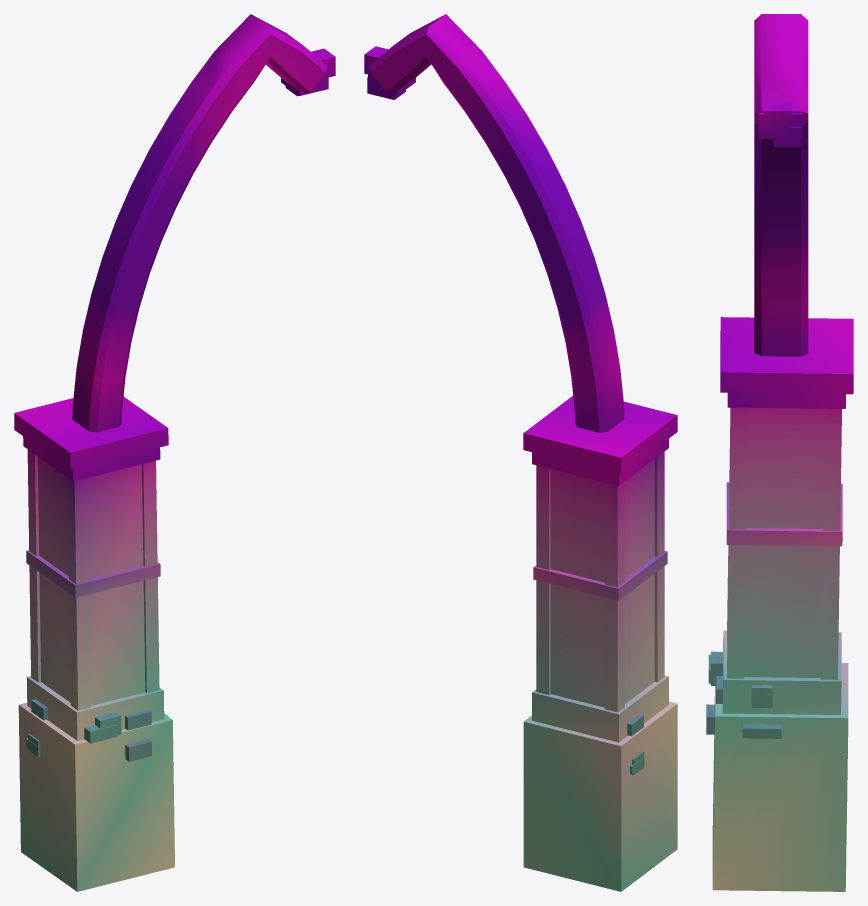
File: half_arch_sunk.glb
The picture shows the model from 3 angles, left to right: view 1: azimuth 30°, elevation 25°; view 2: azimuth 150°, elevation 25°; view 3: azimuth 270°, elevation 25°; orthographic projection. The views are drawn at different scales.
Parts seen in each view (by area): view 1: arch_jamb, arch_sweep, arch_impost, arch_barnacles, arch_fracture; view 2: arch_jamb, arch_sweep, arch_impost, arch_fracture; view 3: arch_jamb, arch_sweep, arch_impost, arch_barnacles, arch_fracture.
Boxes of the visible parts, x1,y1,x2,y2 form: arch_jamb: [18, 449, 174, 891]; arch_sweep: [72, 14, 326, 432]; arch_impost: [14, 397, 168, 597]; arch_barnacles: [25, 699, 168, 761]; arch_fracture: [281, 48, 335, 96]; arch_jamb: [523, 451, 677, 891]; arch_sweep: [370, 14, 624, 432]; arch_impost: [523, 396, 677, 600]; arch_fracture: [364, 46, 415, 99]; arch_jamb: [712, 407, 848, 891]; arch_sweep: [754, 14, 808, 356]; arch_impost: [720, 317, 853, 546]; arch_barnacles: [706, 651, 781, 738]; arch_fracture: [759, 102, 803, 146].
Size of the model in its own units: 3.13 by 8.45 by 1.2.
